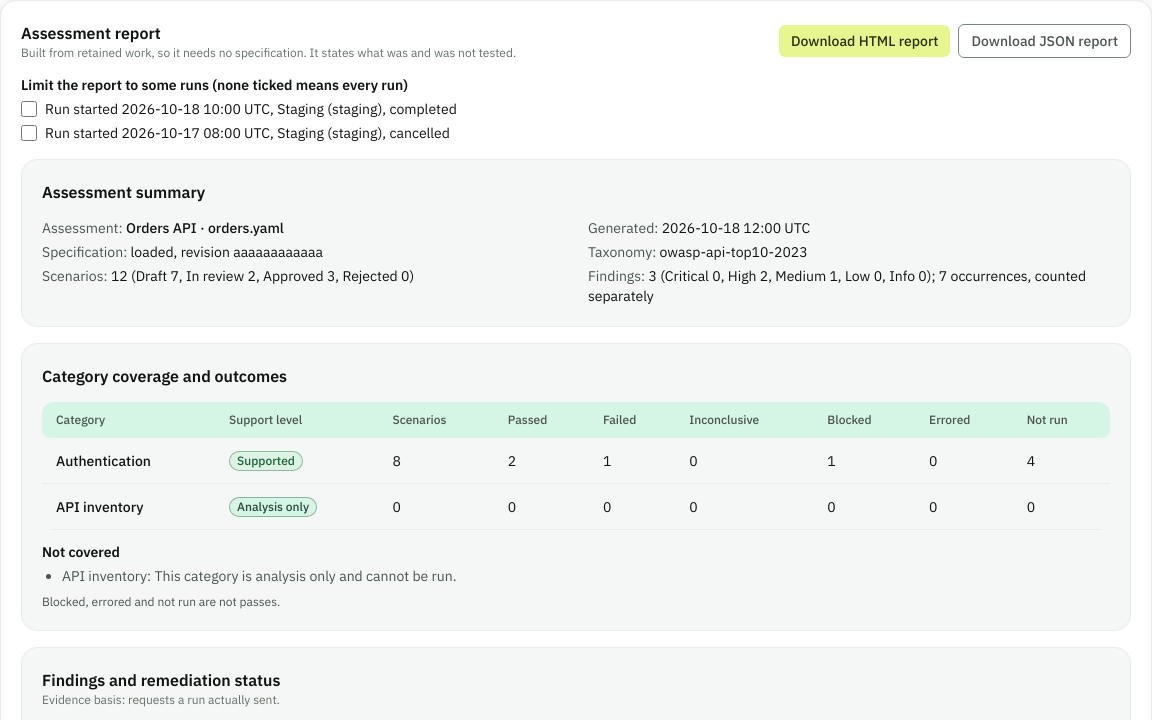
ReportsArea (T128, T134, FR-061, FR-062) › download › shows a refused download with the server's message, saves nothing and says nothing was saved
This screenshot has width=1152, height=720.
Step 1. Click the button "Download HTML report" → (865, 41), box [779,25,950,57]
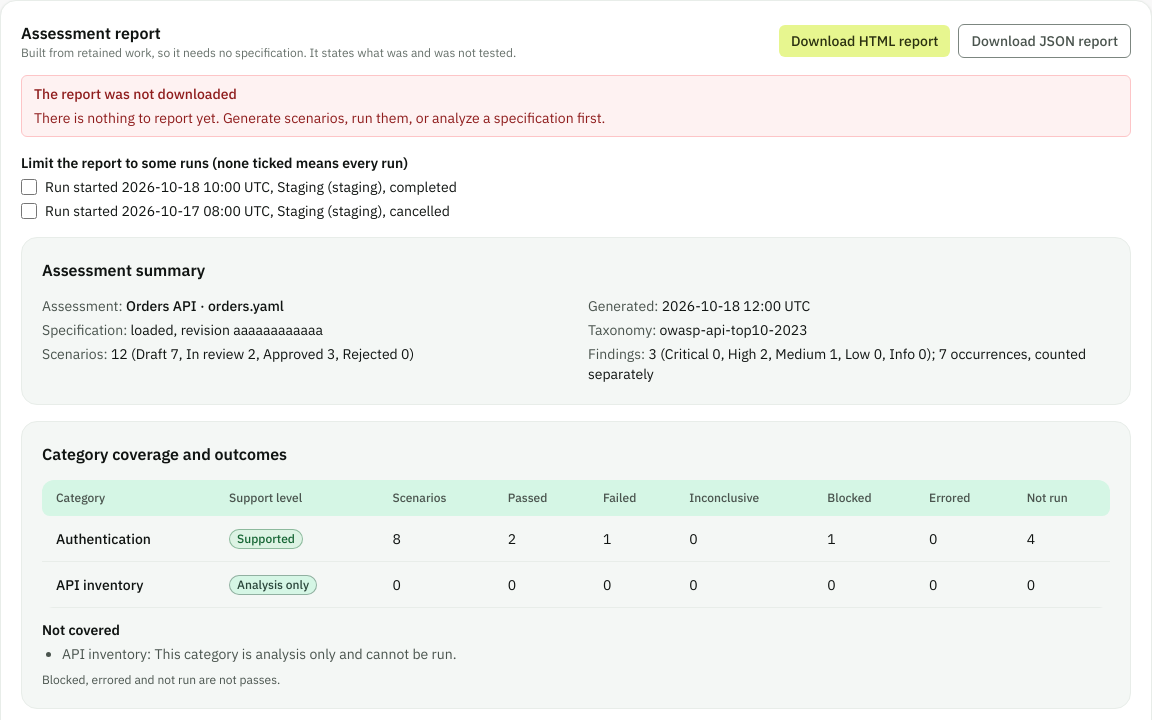
expect the message with test id "report-download-error" shows "There is nothing to report yet. Generate scenarios, run them, or analyze a specification first.": met, box [34,109,605,127]
